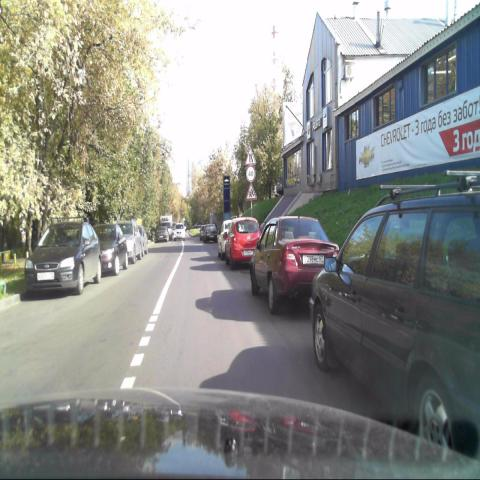1_20_2: (244, 145, 257, 166)
